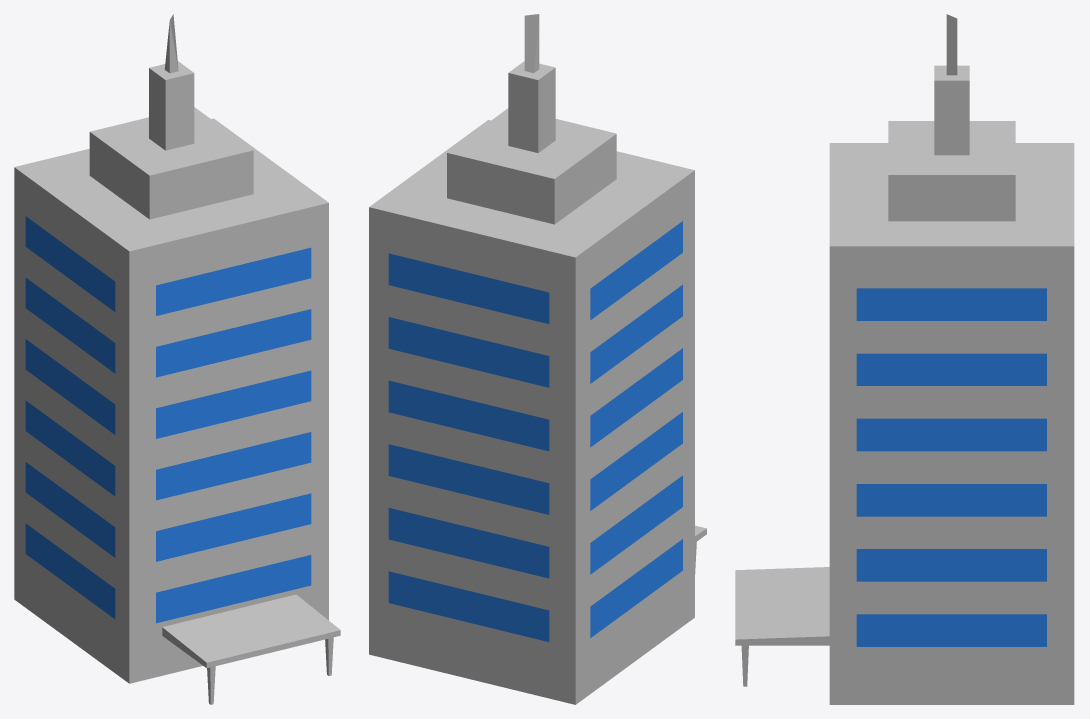
The model's file is building_tall_blue.glb.
3 renders of one model, left to right at view 1: azimuth 30°, elevation 25°; view 2: azimuth 150°, elevation 25°; view 3: azimuth 270°, elevation 25°, orthographic. The views are drawn at different scales.
Parts seen in each view (by area): view 1: building_tall; view 2: building_tall; view 3: building_tall.
Part boxes in pixels (x1,y1,x2,y2): building_tall: (14,14,340,704); building_tall: (369,14,706,704); building_tall: (735,14,1074,704).
Size of the model in its own units: 9.32 by 26.57 by 12.85.
Materials: 1 (1 with a texture image).
